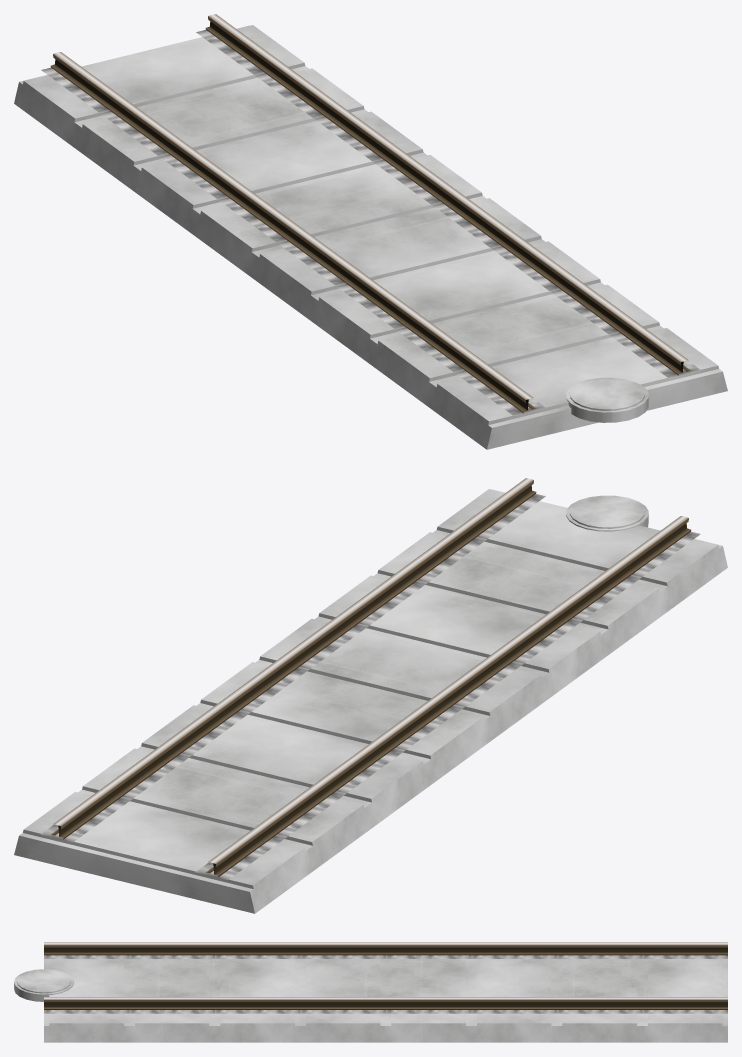
The model's file is HT_1RAIL_KONKURI25.glb.
3 renders of one model, top to bottom at view 1: azimuth 30°, elevation 25°; view 2: azimuth 150°, elevation 25°; view 3: azimuth 270°, elevation 25°, orthographic. The views are drawn at different scales.
Visible parts, largest first — view 1: obj6, obj1; view 2: obj6, obj1; view 3: obj6, obj1.
Part boxes in pixels (x1,y1,x2,y2): obj6: [14, 14, 727, 449]; obj1: [566, 377, 648, 422]; obj6: [14, 478, 727, 913]; obj1: [566, 495, 648, 531]; obj6: [44, 942, 727, 1042]; obj1: [14, 969, 74, 1001].
Bounding box in the file's own units: 7.36 × 1.19 × 26.1.
5 materials, 5 textured.
